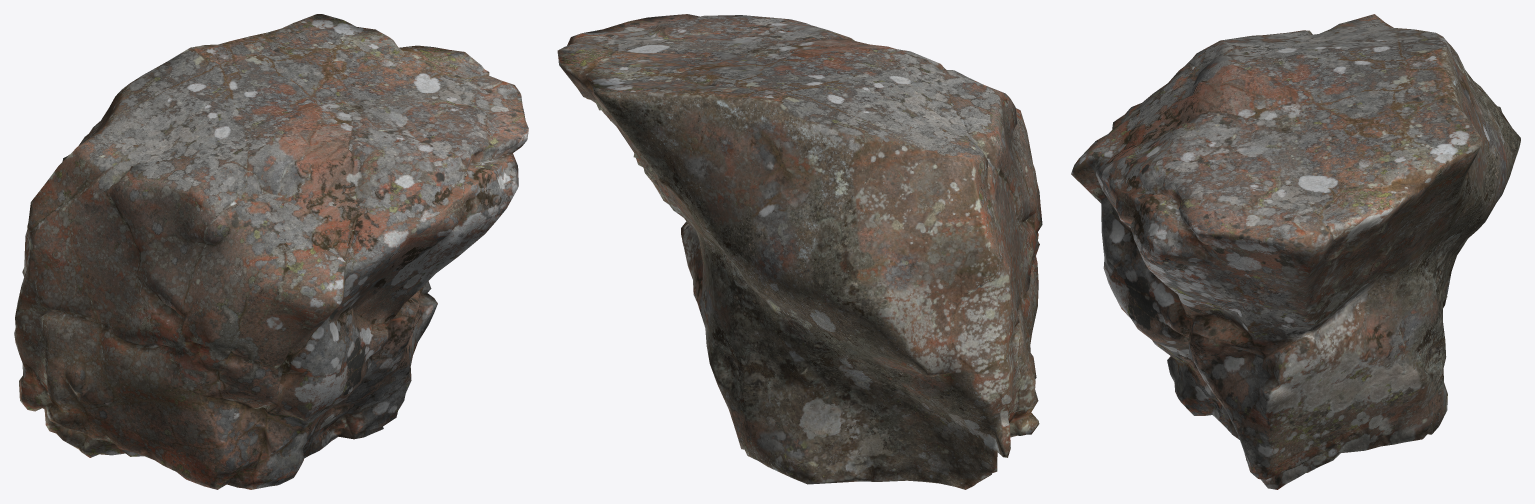
Rendered from vcyqebjfa_tier_2.gltf.
The picture shows the model from 3 angles, left to right: view 1: azimuth 30°, elevation 25°; view 2: azimuth 150°, elevation 25°; view 3: azimuth 270°, elevation 25°; orthographic projection. The views are drawn at different scales.
Parts seen in each view (by area): view 1: vcyqebjfa_LOD0_TIER2_000; view 2: vcyqebjfa_LOD0_TIER2_000; view 3: vcyqebjfa_LOD0_TIER2_000.
Part boxes in pixels (x1=…): vcyqebjfa_LOD0_TIER2_000: x1=14, y1=14, x2=528, y2=489; vcyqebjfa_LOD0_TIER2_000: x1=557, y1=14, x2=1042, y2=489; vcyqebjfa_LOD0_TIER2_000: x1=1071, y1=14, x2=1520, y2=489.
Bounding box in the file's own units: 1.16 × 0.8602 × 0.9198.
Materials: 1 (1 with a texture image).
